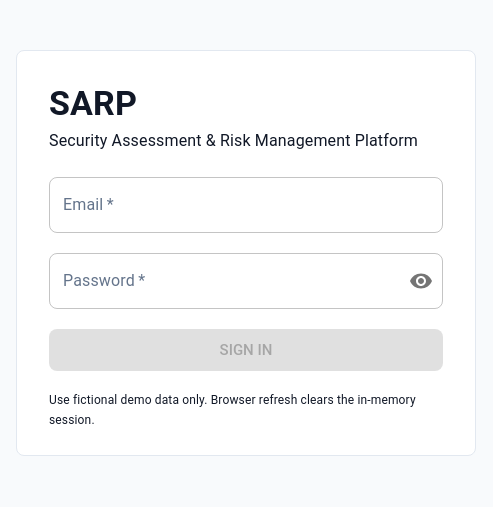
Test: invalid login displays a generic error
The width and height of the screenshot is (493, 507).
In the field labelled "Email *": coordinates (246, 205) [49,177,443,233], type "consultant@example.test"
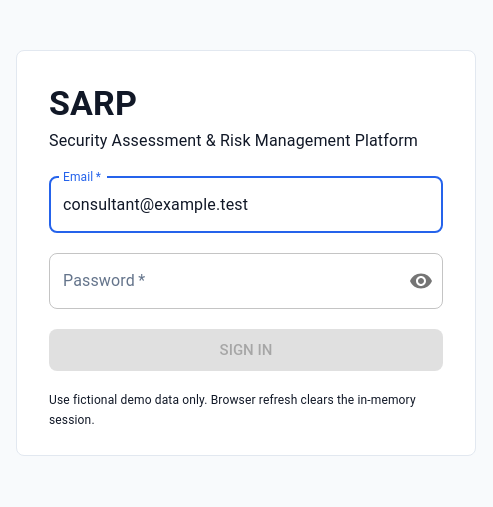
In the password field labelled "Password *": coordinates (221, 281) [49,253,393,309], type "wrong"
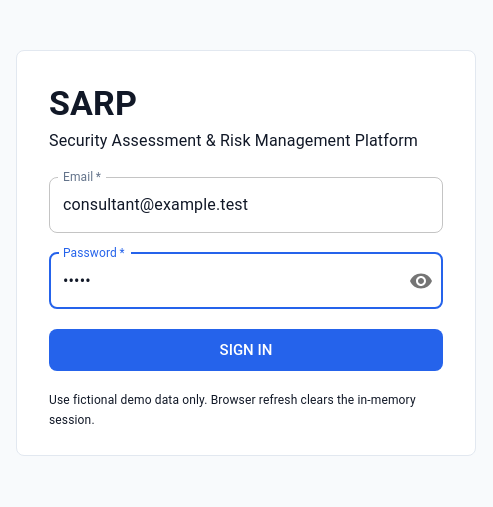
Click the button "Sign in": coordinates (246, 350) [49,329,443,371]
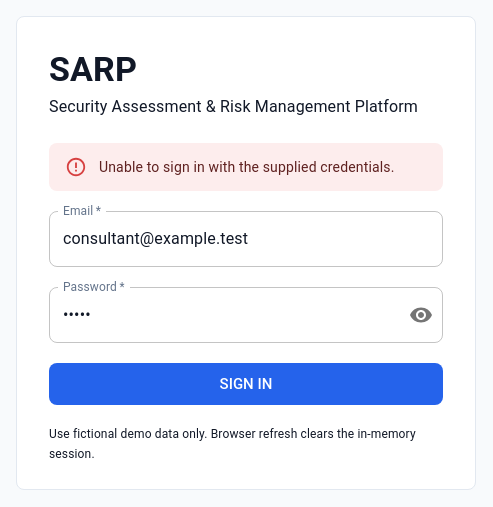
Now the text "Unable to sign in with the supplied credentials." is shown, box [99,159,394,175]
